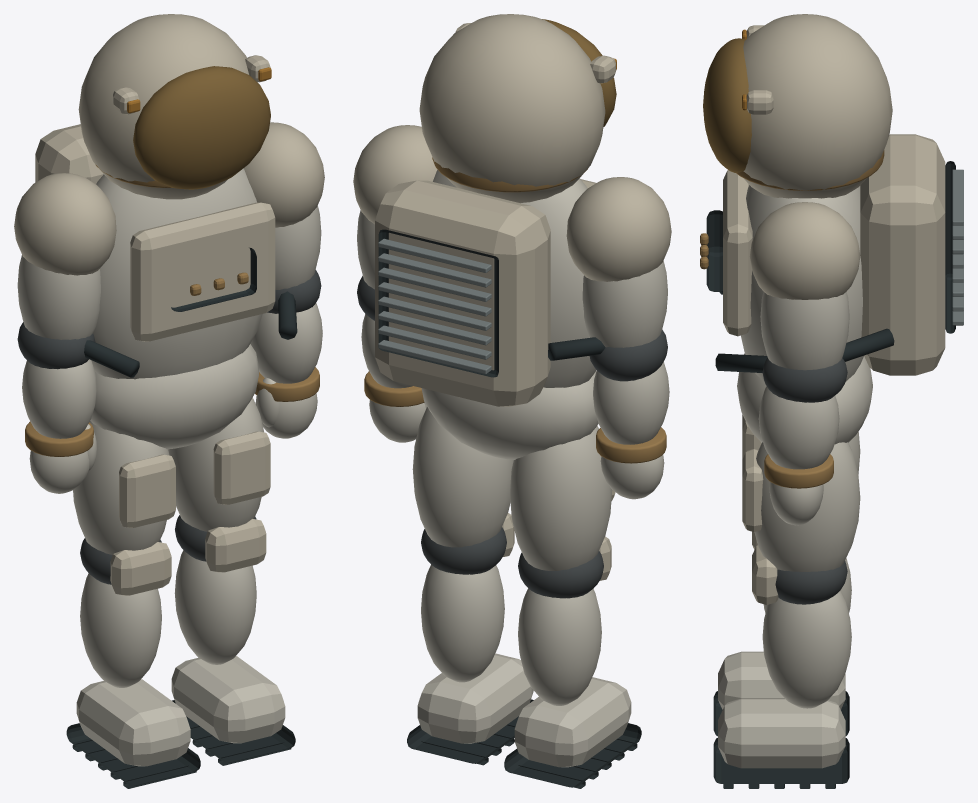
File: astronaut-a02.glb
The picture shows the model from 3 angles, left to right: view 1: azimuth 30°, elevation 25°; view 2: azimuth 150°, elevation 25°; view 3: azimuth 270°, elevation 25°; orthographic projection. The views are drawn at different scales.
Visible parts, largest first — view 1: torso_AUTHOR / A02 / colored garment atlas, knee_L_AUTHOR / A02 / colored garment atlas, knee_R_AUTHOR / A02 / colored garment atlas, helmet_AUTHOR / A02 / colored garment atlas, shoulder_L_AUTHOR / A02 / colored garment atlas, helmet_AUTHOR / A02 / gold coated visor, pelvis_AUTHOR / A02 / colored garment atlas, elbow_L_AUTHOR / A02 / colored garment atlas, hip_L_AUTHOR / A02 / colored garment atlas, hip_R_AUTHOR / A02 / colored garment atlas, shoulder_R_AUTHOR / A02 / colored garment atlas, elbow_R_AUTHOR / A02 / colored garment atlas; view 2: torso_AUTHOR / A02 / colored garment atlas, helmet_AUTHOR / A02 / colored garment atlas, knee_L_AUTHOR / A02 / colored garment atlas, knee_R_AUTHOR / A02 / colored garment atlas, shoulder_L_AUTHOR / A02 / colored garment atlas, hip_L_AUTHOR / A02 / colored garment atlas, elbow_L_AUTHOR / A02 / colored garment atlas, hip_R_AUTHOR / A02 / colored garment atlas, pelvis_AUTHOR / A02 / colored garment atlas, shoulder_R_AUTHOR / A02 / colored garment atlas, elbow_R_AUTHOR / A02 / colored garment atlas, helmet_AUTHOR / A02 / gold coated visor; view 3: torso_AUTHOR / A02 / colored garment atlas, helmet_AUTHOR / A02 / colored garment atlas, knee_R_AUTHOR / A02 / colored garment atlas, shoulder_R_AUTHOR / A02 / colored garment atlas, elbow_R_AUTHOR / A02 / colored garment atlas, hip_R_AUTHOR / A02 / colored garment atlas, helmet_AUTHOR / A02 / gold coated visor, knee_L_AUTHOR / A02 / colored garment atlas, pelvis_AUTHOR / A02 / colored garment atlas, hip_L_AUTHOR / A02 / colored garment atlas.
Boxes of the visible parts, left/top/right/bottom form: torso_AUTHOR / A02 / colored garment atlas: left=35, top=124, right=297, bottom=379; knee_L_AUTHOR / A02 / colored garment atlas: left=66, top=538, right=200, bottom=788; knee_R_AUTHOR / A02 / colored garment atlas: left=171, top=515, right=295, bottom=765; helmet_AUTHOR / A02 / colored garment atlas: left=78, top=14, right=271, bottom=199; shoulder_L_AUTHOR / A02 / colored garment atlas: left=14, top=173, right=116, bottom=339; helmet_AUTHOR / A02 / gold coated visor: left=133, top=66, right=270, bottom=189; pelvis_AUTHOR / A02 / colored garment atlas: left=90, top=344, right=258, bottom=449; elbow_L_AUTHOR / A02 / colored garment atlas: left=17, top=322, right=96, bottom=493; hip_L_AUTHOR / A02 / colored garment atlas: left=73, top=420, right=175, bottom=554; hip_R_AUTHOR / A02 / colored garment atlas: left=168, top=397, right=270, bottom=531; shoulder_R_AUTHOR / A02 / colored garment atlas: left=244, top=122, right=324, bottom=289; elbow_R_AUTHOR / A02 / colored garment atlas: left=250, top=270, right=322, bottom=438; torso_AUTHOR / A02 / colored garment atlas: left=375, top=157, right=605, bottom=406; helmet_AUTHOR / A02 / colored garment atlas: left=419, top=14, right=616, bottom=203; knee_L_AUTHOR / A02 / colored garment atlas: left=504, top=536, right=641, bottom=788; knee_R_AUTHOR / A02 / colored garment atlas: left=407, top=513, right=533, bottom=765; shoulder_L_AUTHOR / A02 / colored garment atlas: left=566, top=177, right=671, bottom=347; hip_L_AUTHOR / A02 / colored garment atlas: left=510, top=425, right=615, bottom=570; elbow_L_AUTHOR / A02 / colored garment atlas: left=589, top=329, right=669, bottom=499; hip_R_AUTHOR / A02 / colored garment atlas: left=412, top=407, right=513, bottom=547; pelvis_AUTHOR / A02 / colored garment atlas: left=421, top=371, right=598, bottom=459; shoulder_R_AUTHOR / A02 / colored garment atlas: left=353, top=125, right=437, bottom=289; elbow_R_AUTHOR / A02 / colored garment atlas: left=357, top=276, right=426, bottom=442; helmet_AUTHOR / A02 / gold coated visor: left=542, top=19, right=616, bottom=126; torso_AUTHOR / A02 / colored garment atlas: left=700, top=134, right=963, bottom=381; helmet_AUTHOR / A02 / colored garment atlas: left=742, top=14, right=892, bottom=198; knee_R_AUTHOR / A02 / colored garment atlas: left=713, top=545, right=851, bottom=788; shoulder_R_AUTHOR / A02 / colored garment atlas: left=749, top=202, right=860, bottom=370; elbow_R_AUTHOR / A02 / colored garment atlas: left=758, top=357, right=847, bottom=525; hip_R_AUTHOR / A02 / colored garment atlas: left=742, top=442, right=860, bottom=571; helmet_AUTHOR / A02 / gold coated visor: left=703, top=38, right=751, bottom=172; knee_L_AUTHOR / A02 / colored garment atlas: left=713, top=531, right=851, bottom=736; pelvis_AUTHOR / A02 / colored garment atlas: left=737, top=353, right=872, bottom=444; hip_L_AUTHOR / A02 / colored garment atlas: left=742, top=414, right=860, bottom=474.
Bounding box in the file's own units: 0.81 × 1.89 × 0.6205.
